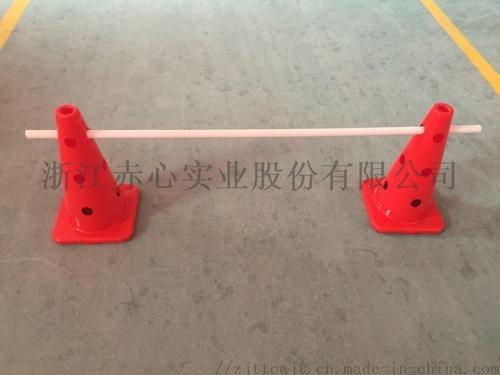cone_barrel: (41, 104, 139, 242), (361, 102, 464, 231)
